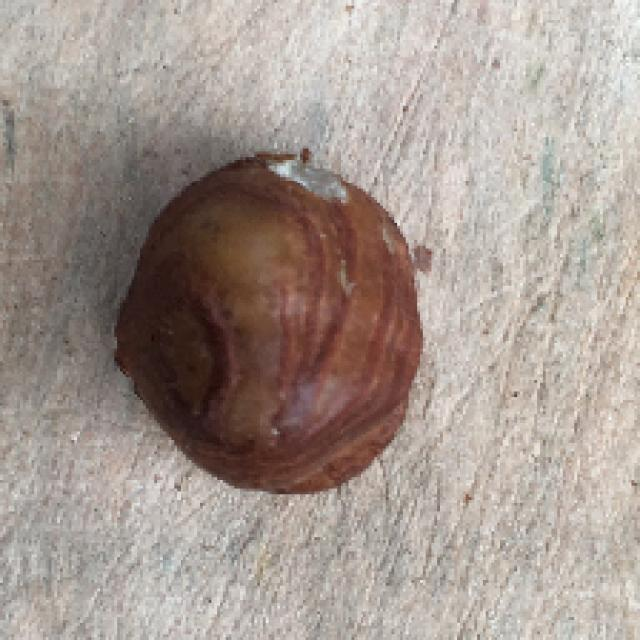hazelnut: (115, 143, 428, 500)
